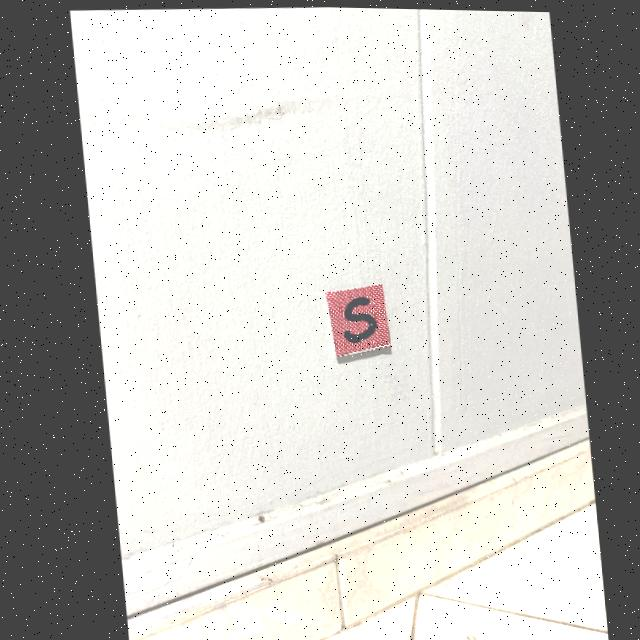S: (341, 296, 372, 339)
